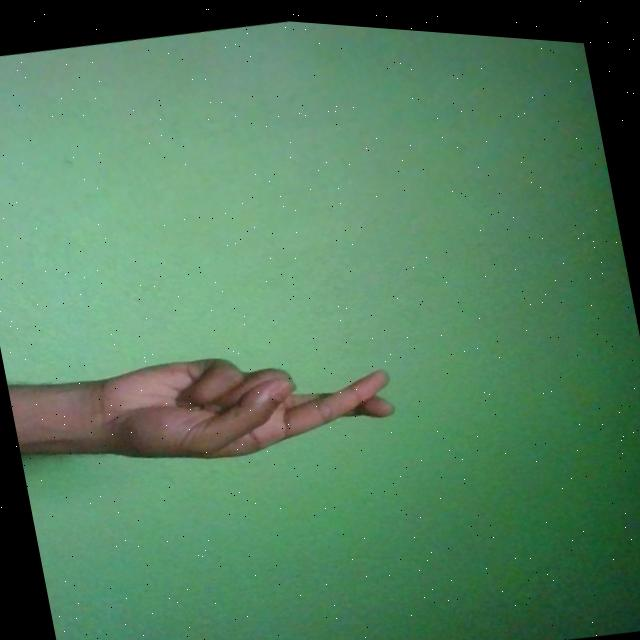Good Luck: (82, 313, 400, 489)
